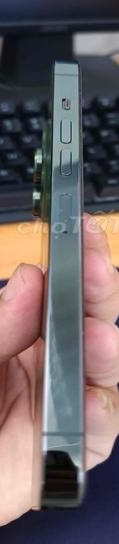scratch: (48, 186, 86, 255), (42, 430, 96, 470)
